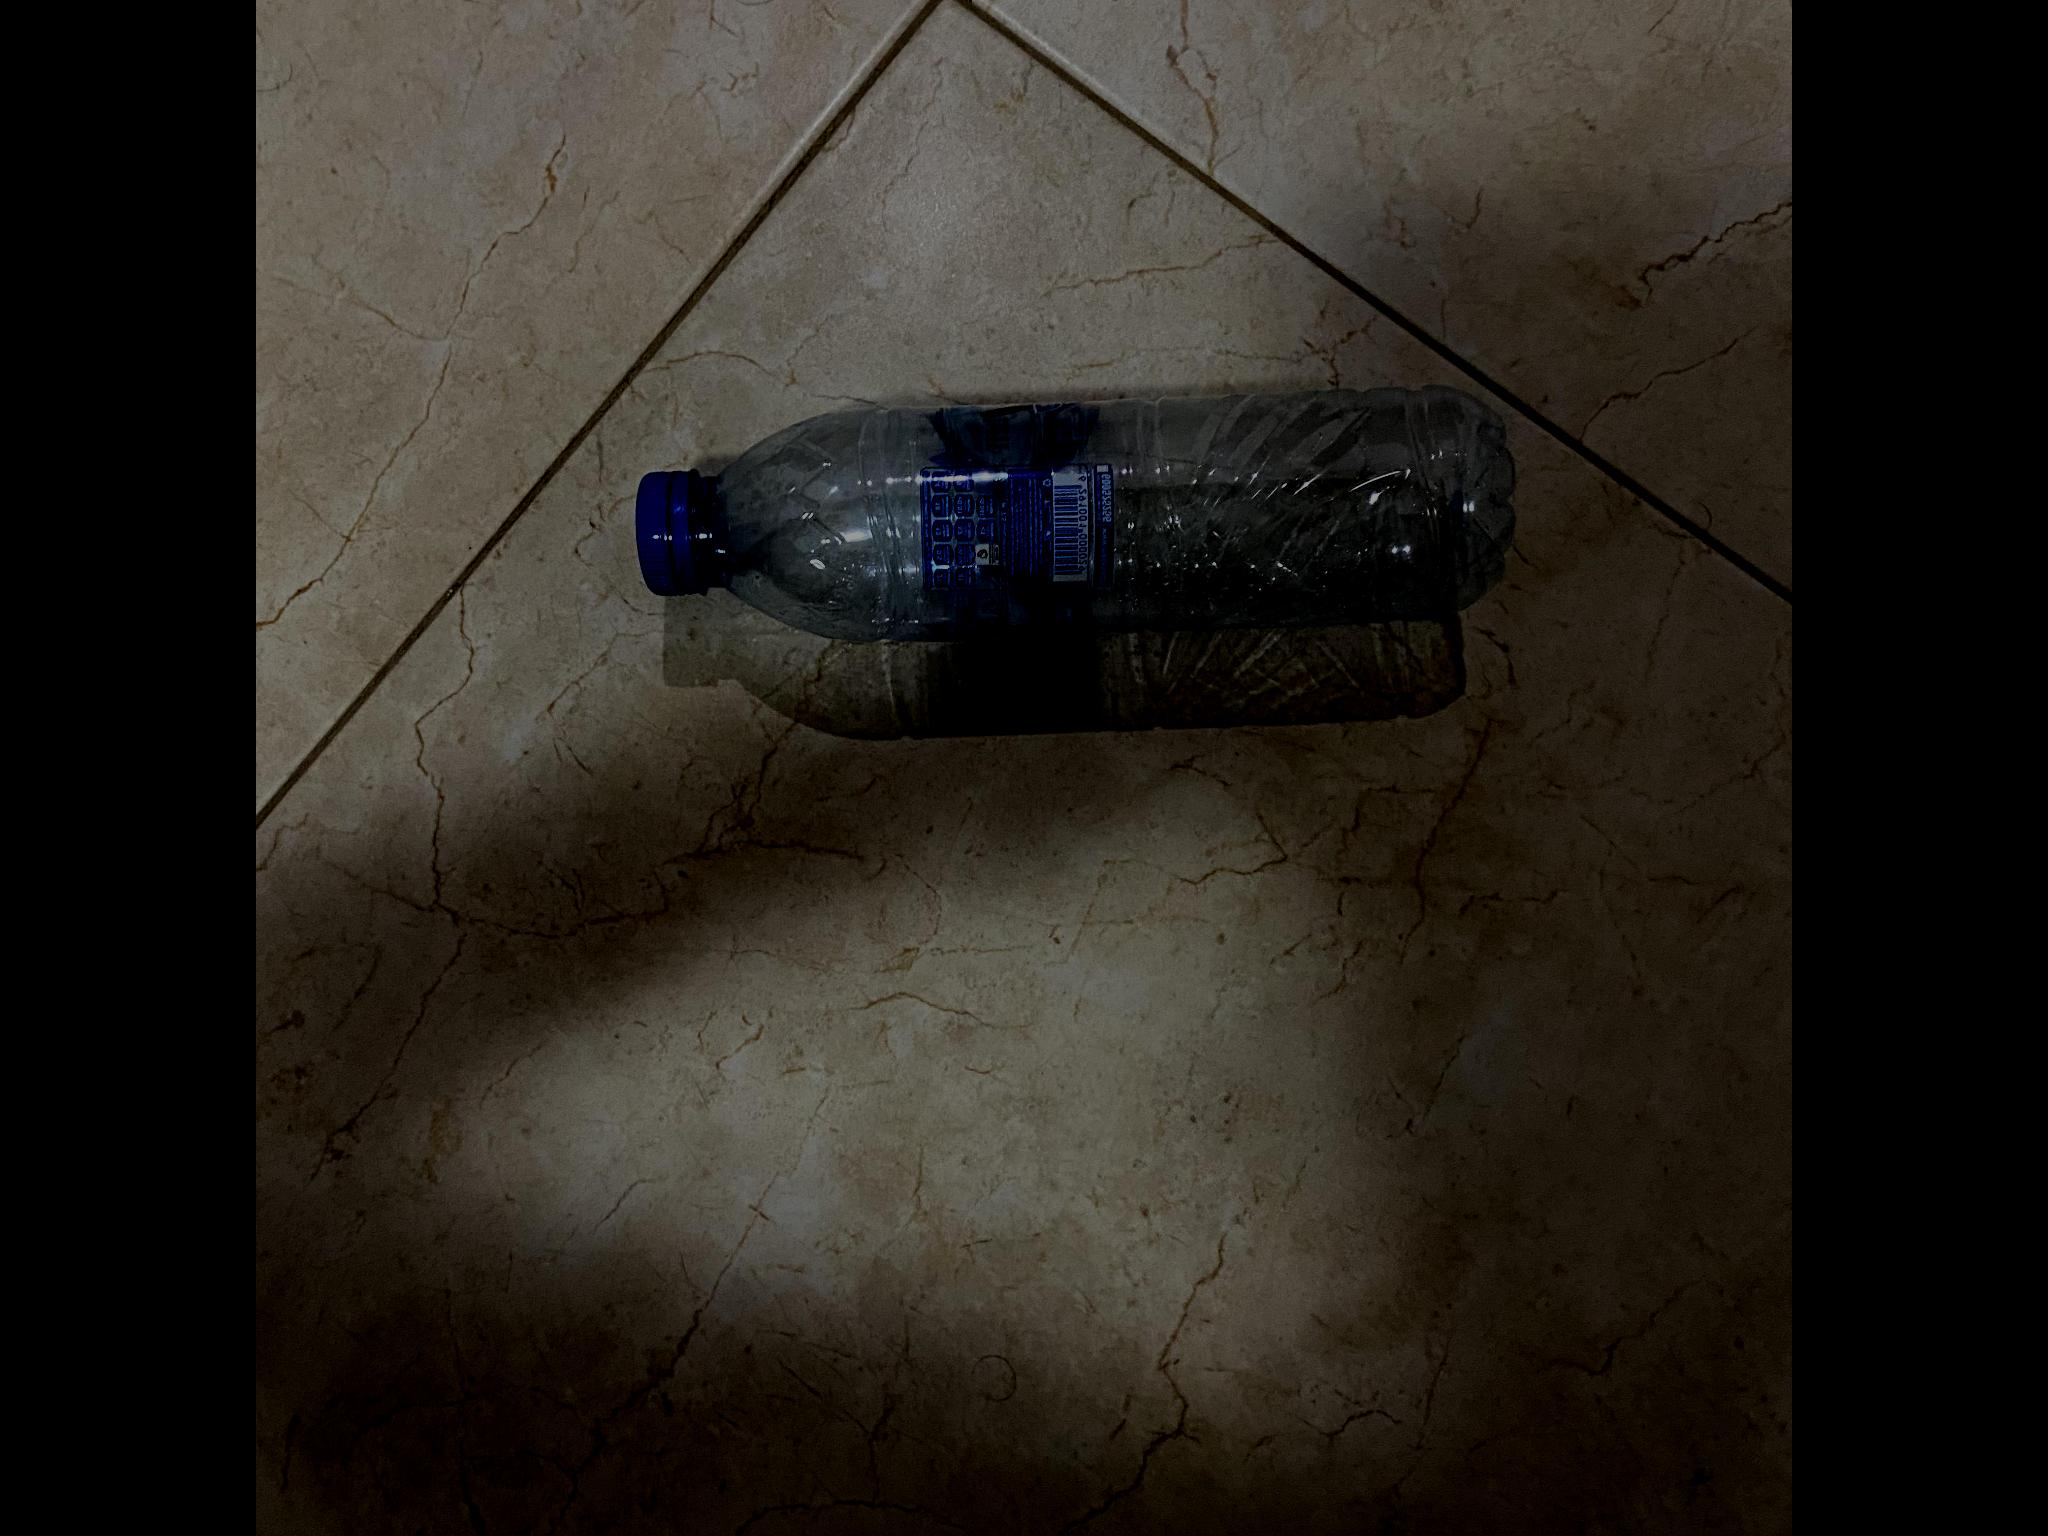bottle: (605, 373, 1492, 649)
